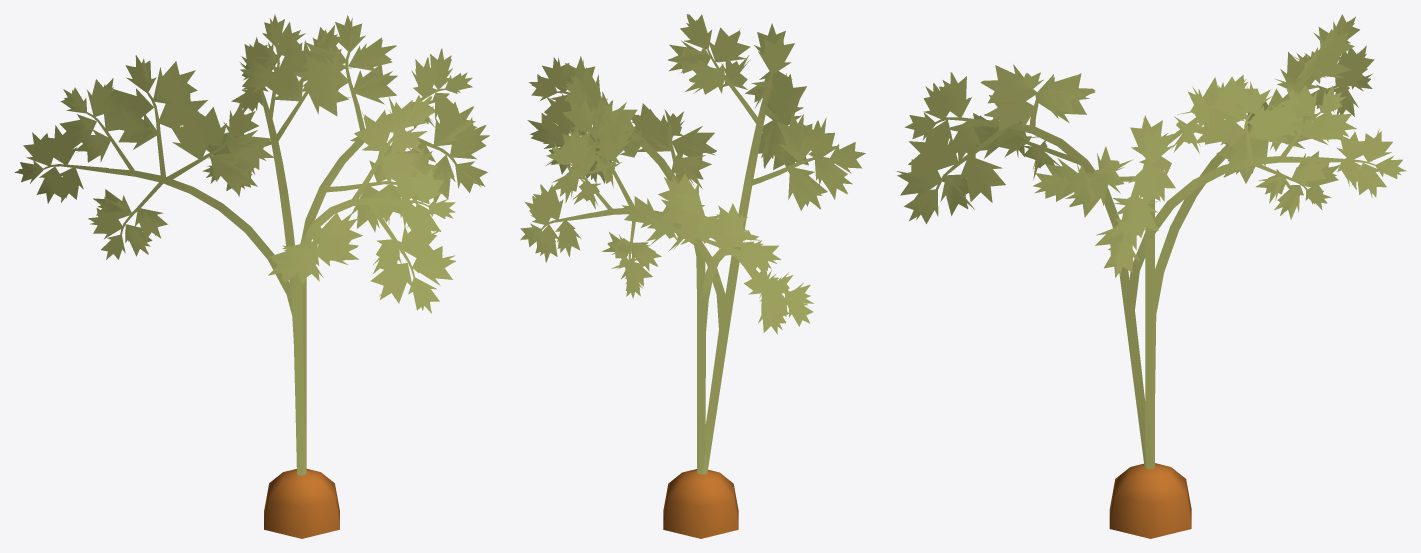
File: PL_carrotStage3_01.fbx
3 views of the same model, side by side, from view 1: azimuth 30°, elevation 25°; view 2: azimuth 150°, elevation 25°; view 3: azimuth 270°, elevation 25° (orthographic). The views are drawn at different scales.
Parts seen in each view (by area): view 1: lod1; view 2: lod1; view 3: lod1.
Boxes of the visible parts, box(x1,y1,x2,y2) form: lod1: box(14, 14, 489, 538); lod1: box(520, 14, 865, 538); lod1: box(896, 14, 1406, 538).
Size of what is drawn, in the model's own units: 54.68 by 64.7 by 61.3.
Materials: 1 (1 with a texture image).
